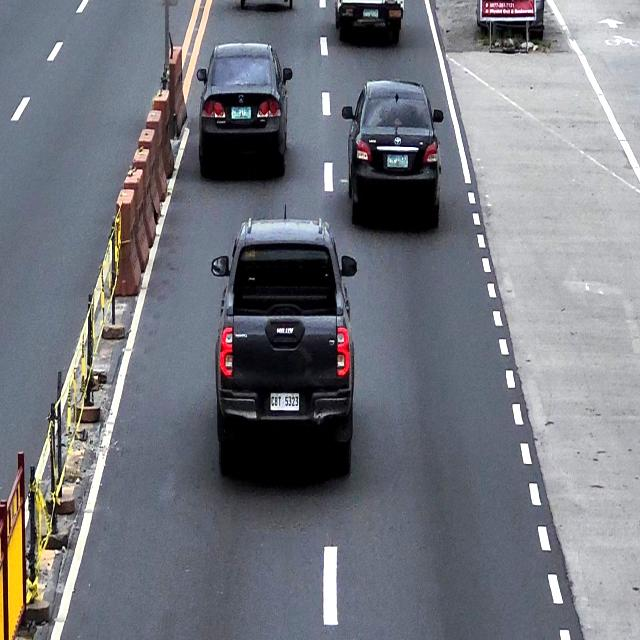Car: (212, 217, 358, 479), (342, 79, 444, 230), (196, 42, 294, 180)
License-Plate: (271, 392, 300, 410), (388, 156, 408, 170), (231, 106, 251, 119)
